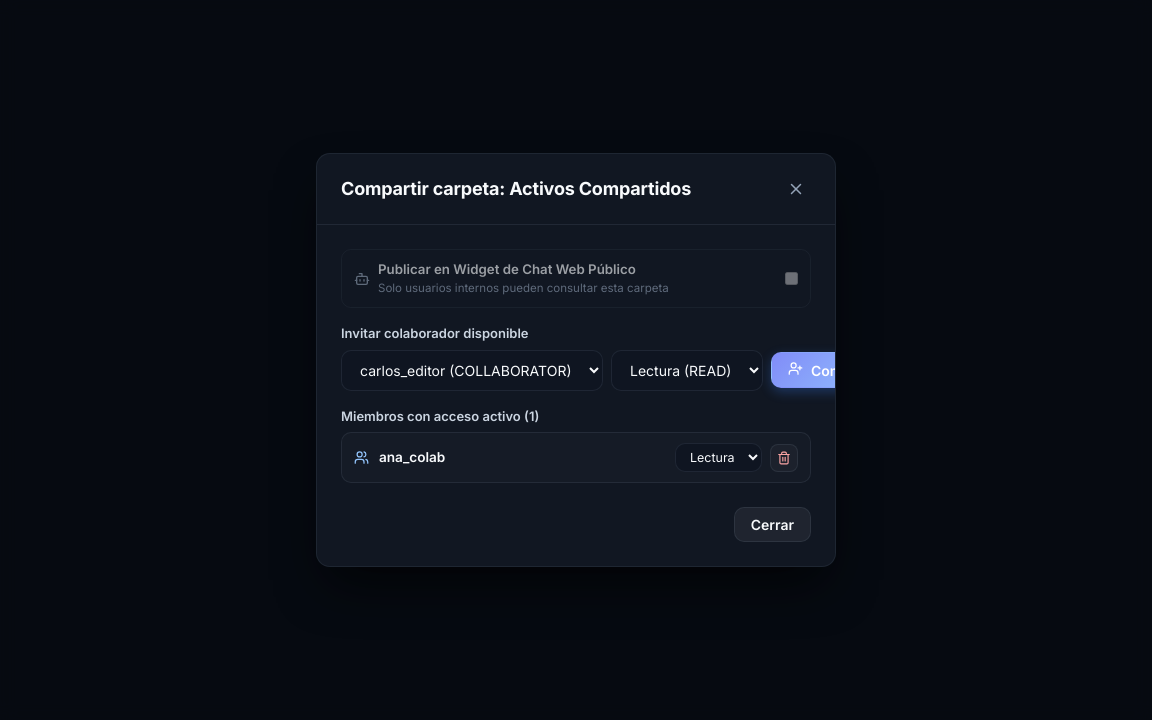
ShareFolderModal Component (13.4) › loads active shares and available collaborators, and shares folder with initial permission
The image size is (1152, 720).
Expected: the element with test id "share-member-ana_colab" is shown, [341,432,811,483]
Select "Edición (EDIT)" in the dropdown named "Permiso inicial": (687, 370) [611,350,763,391]
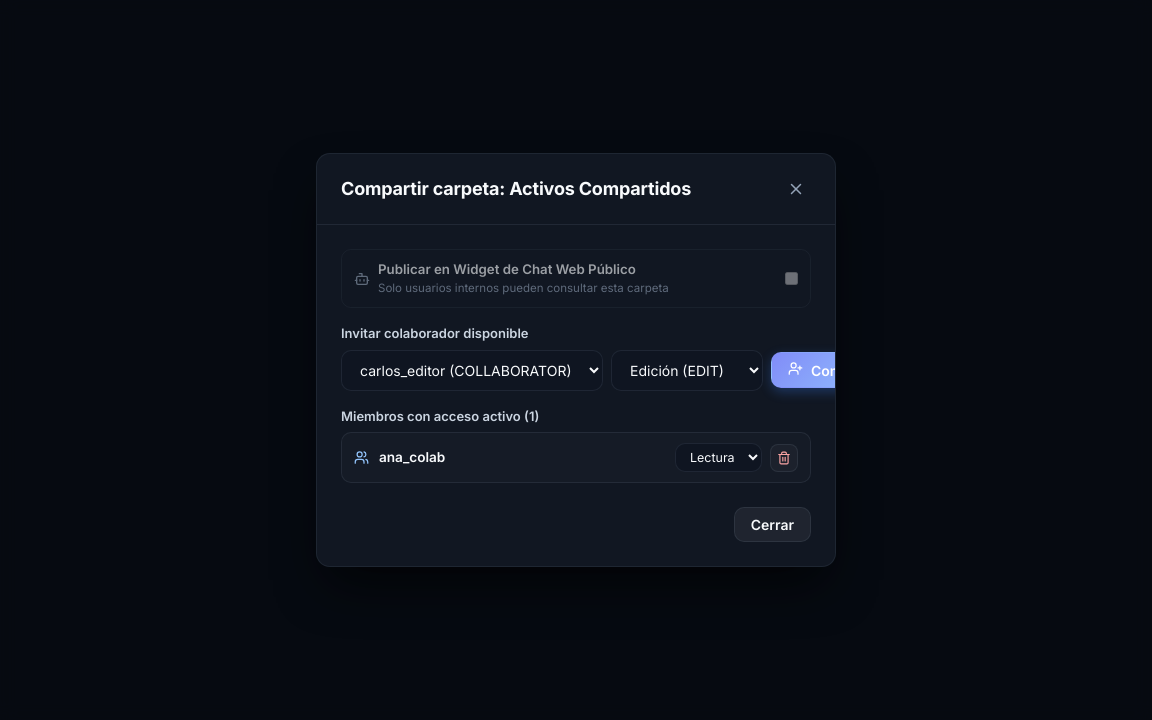
Click the button "Compartir": click(834, 370) [771,352,896,388]
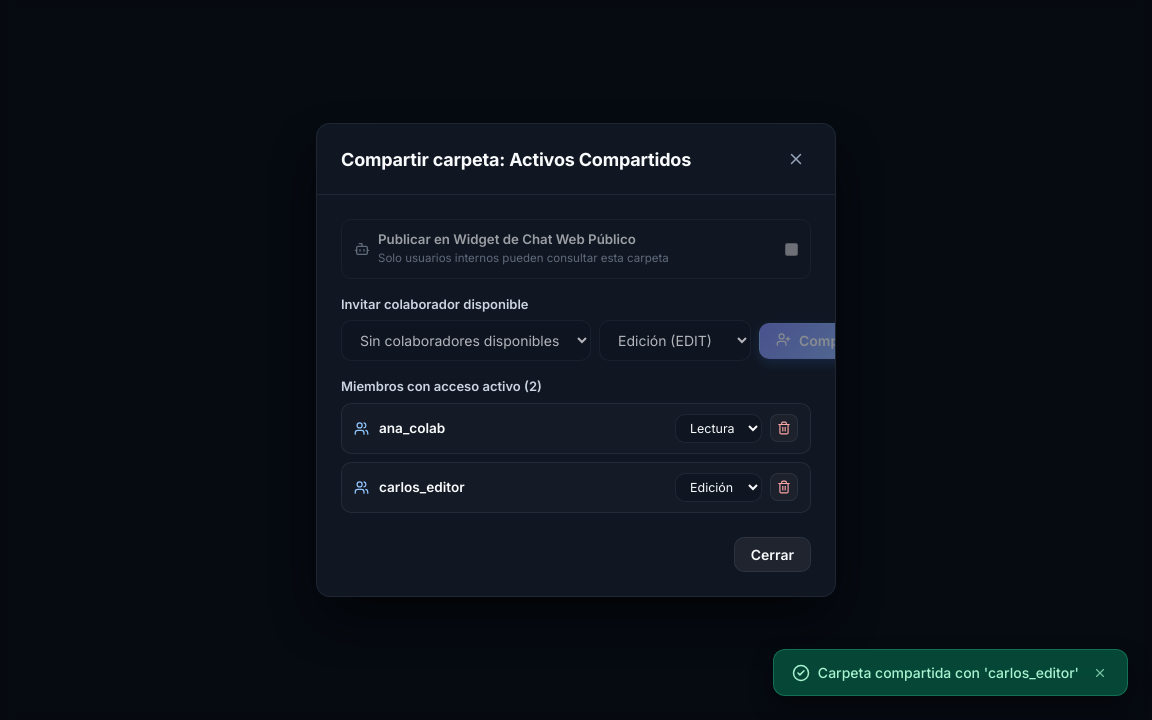
Expected: the element with test id "share-member-carlos_editor" is shown, [341,462,811,513]
